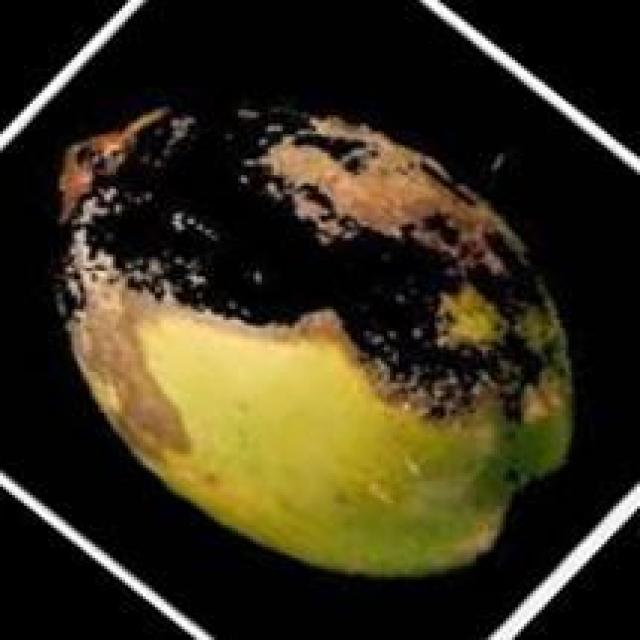damaged: (45, 63, 575, 583)
